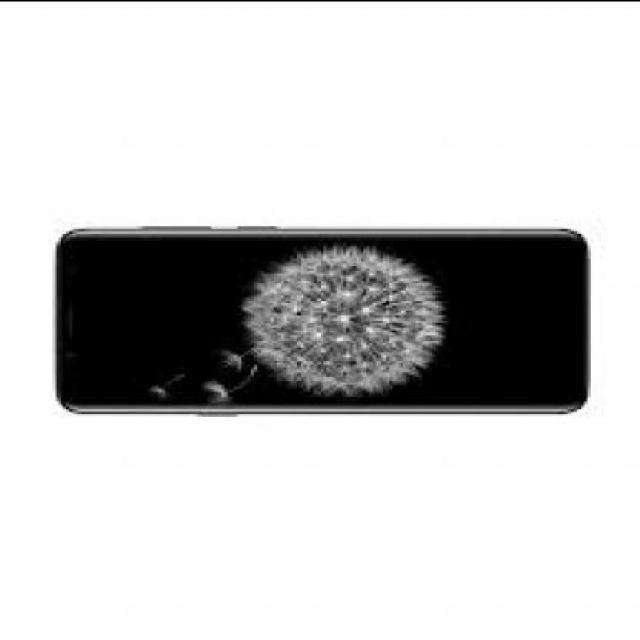fake: (52, 220, 591, 416)
